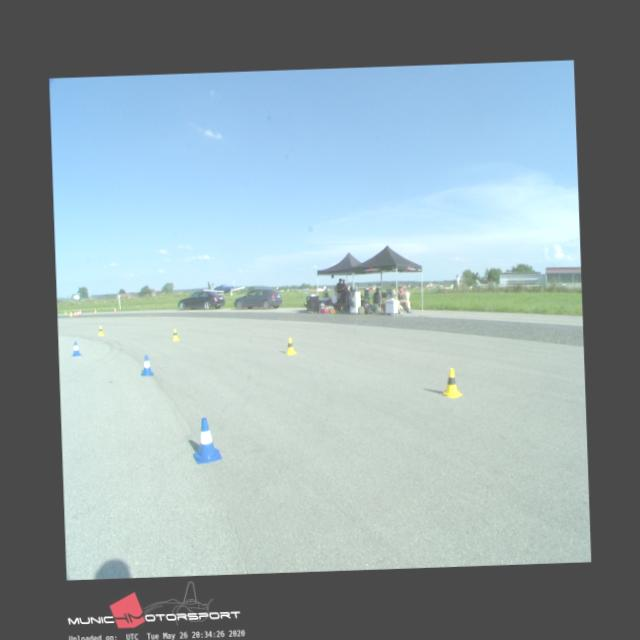blue_cone: (190, 416, 222, 464), (139, 355, 154, 376), (70, 341, 82, 355)
yellow_cone: (440, 367, 462, 397), (284, 336, 296, 354), (172, 328, 178, 340), (98, 325, 104, 335)
